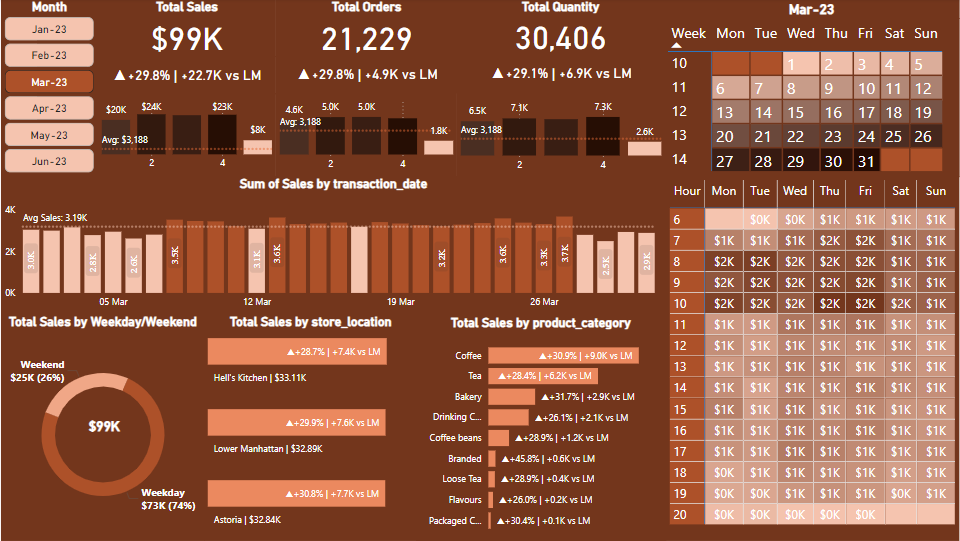

What the dashboard file says about the page in this screenshot:
{"tool":"powerbi","page":{"name":"Page 1","canvas":[1280,740],"ordinal":0},"visuals":[{"type":"card","title":"Total Sales","fields":{"Values":["Table.Total Sales"]},"box":[135.2,1.5,236.3,77.3],"z":0},{"type":"advancedSlicerVisual","fields":{"Values":["Date.Month"]},"box":[6.6,1.3,128.6,237.4],"z":1000},{"type":"card","title":"Total Orders","fields":{"Values":["Table.Total Order"]},"box":[371.5,1.5,240.7,77.3],"z":2000},{"type":"card","title":"Total Quantity","fields":{"Values":["Table.CM Quantity"]},"box":[610.7,1.5,274.9,75.8],"z":3000},{"type":"columnChart","fields":{"Category":["Date.Current Week Number"],"Y":["Table.Total Order"]},"box":[371.6,122.9,240,114.2],"z":4000},{"type":"pivotTable","fields":{"Rows":["Date.WeekNum"],"Columns":["Date.Day Name"],"Values":["Min(Date.Day Number)"]},"box":[886.3,26,391.8,211.1],"z":5000},{"type":"card","fields":{"Values":["Min(Date.Month)"]},"box":[886.3,1.4,391.8,26],"z":6000},{"type":"donutChart","title":"Sales by Weekday/Weekend","fields":{"Y":["Table.Total Sales"],"Category":["Date.Weekday/Weekend"]},"box":[7.2,419.3,270.4,300.7],"z":7000},{"type":"card","fields":{"Values":["Table.Total Sales"]},"box":[108.4,549.4,69.4,39],"z":8000},{"type":"clusteredBarChart","title":"Sales by Store Location","fields":{"Category":["Transactions.store_location"],"Y":["Table.Total Sales","Matrix.Placeholder"]},"box":[276.1,419.3,283.4,300.7],"z":9000},{"type":"columnChart","title":"Sales by Transaction Dates","fields":{"Y":["Sum(Transactions.Sales)"],"Category":["Transactions.transaction_date"]},"box":[7.2,235.7,881.9,185.1],"z":10000},{"type":"card","fields":{"Values":["Table.MOM Growth & Diff Order"]},"box":[371.6,75.2,241.4,50.6],"z":11000},{"type":"card","fields":{"Values":["Table.MOM Growth & Diff Qty"]},"box":[611.6,73.7,276.1,50.6],"z":12000},{"type":"card","fields":{"Values":["Table.MOM Growth & Diff Sales"]},"box":[135.9,76.6,235.7,50.6],"z":13000},{"type":"columnChart","fields":{"Category":["Date.Current Week Number"],"Y":["Table.Total Quantity"]},"box":[611.6,124.3,276.1,114.2],"z":14000},{"type":"columnChart","fields":{"Category":["Date.Current Week Number"],"Y":["Table.Total Sales"]},"box":[135.9,125.8,235.7,111.3],"z":15000},{"type":"clusteredBarChart","title":"Sales by Product Category","fields":{"Category":["Transactions.product_category"],"Y":["Table.Total Sales"]},"box":[557,420.4,331.5,299.7],"z":15001},{"type":"pivotTable","fields":{"Rows":["Transactions.Hour"],"Columns":["Date.Day Name"],"Values":["Table.Total Sales"]},"box":[889.2,235.7,388.9,484.3],"z":15002}]}

Visuals, with their boxes in screenshot pixels (x1, y1, x2, y2), scaled from the page's 1280x740 canvas onto the 960x541 screenshot:
"Total Sales" card: Rect(101, 1, 279, 58)
advancedSlicerVisual - Date.Month: Rect(5, 1, 101, 175)
"Total Orders" card: Rect(279, 1, 459, 58)
"Total Quantity" card: Rect(458, 1, 664, 57)
columnChart - Date.Current Week Number x Table.Total Order: Rect(279, 90, 459, 173)
pivotTable - Date.WeekNum x Date.Day Name: Rect(665, 19, 959, 173)
card - Min(Date.Month): Rect(665, 1, 959, 20)
"Sales by Weekday/Weekend" donutChart: Rect(5, 307, 208, 526)
card - Table.Total Sales: Rect(81, 402, 133, 430)
"Sales by Store Location" clusteredBarChart: Rect(207, 307, 420, 526)
"Sales by Transaction Dates" columnChart: Rect(5, 172, 667, 308)
card - Table.MOM Growth & Diff Order: Rect(279, 55, 460, 92)
card - Table.MOM Growth & Diff Qty: Rect(459, 54, 666, 91)
card - Table.MOM Growth & Diff Sales: Rect(102, 56, 279, 93)
columnChart - Date.Current Week Number x Table.Total Quantity: Rect(459, 91, 666, 174)
columnChart - Date.Current Week Number x Table.Total Sales: Rect(102, 92, 279, 173)
"Sales by Product Category" clusteredBarChart: Rect(418, 307, 666, 526)
pivotTable - Transactions.Hour x Date.Day Name: Rect(667, 172, 959, 526)
